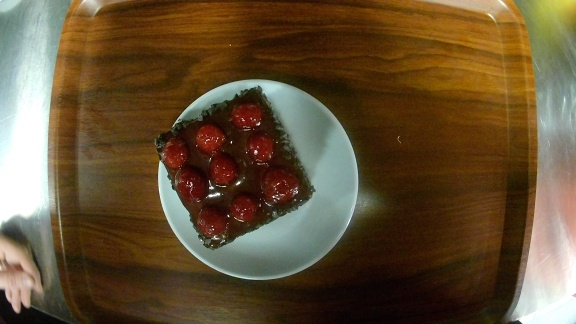cileklipasta: (154, 79, 359, 280)
